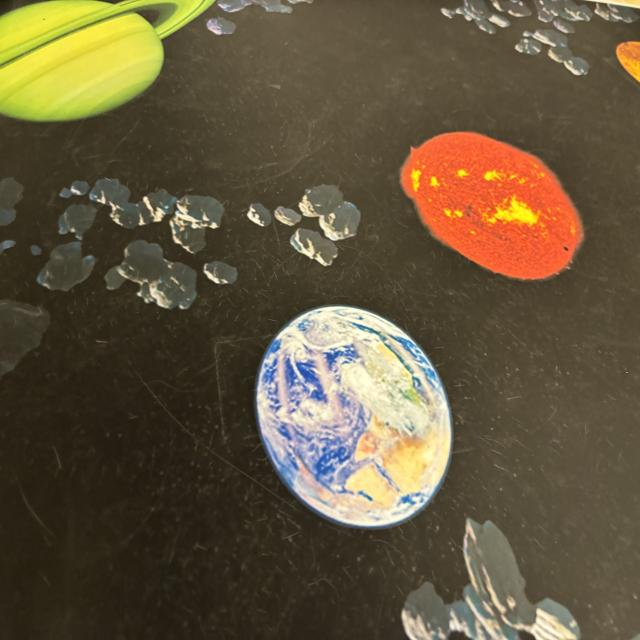Asteroids: (1, 175, 362, 335), (404, 519, 584, 640), (445, 0, 613, 75), (210, 0, 306, 32)
Earth: (255, 307, 456, 520)
Saturn: (0, 0, 205, 115)
Sun: (407, 132, 585, 281)
